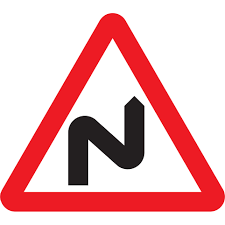Double_bend_right: (1, 13, 225, 213)
